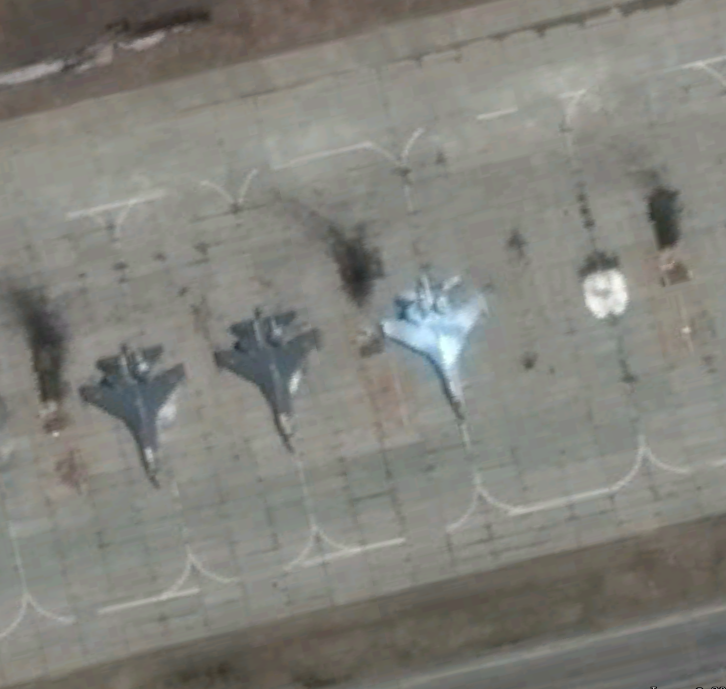A1: (74, 325, 196, 495), (208, 297, 330, 467), (380, 260, 502, 430)
